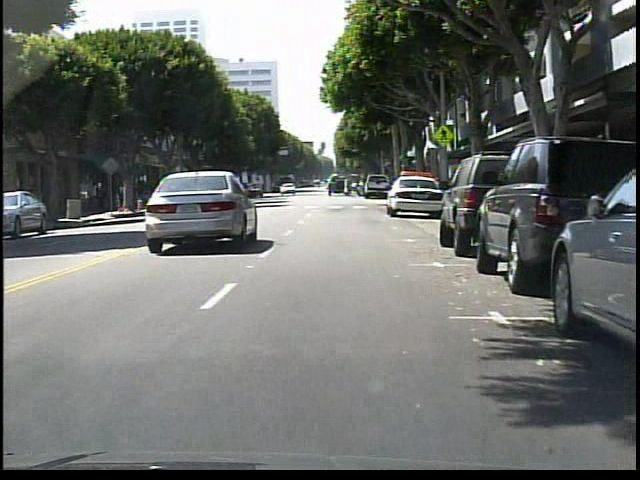person: (90, 178, 100, 211), (119, 183, 128, 209), (347, 176, 348, 197)
